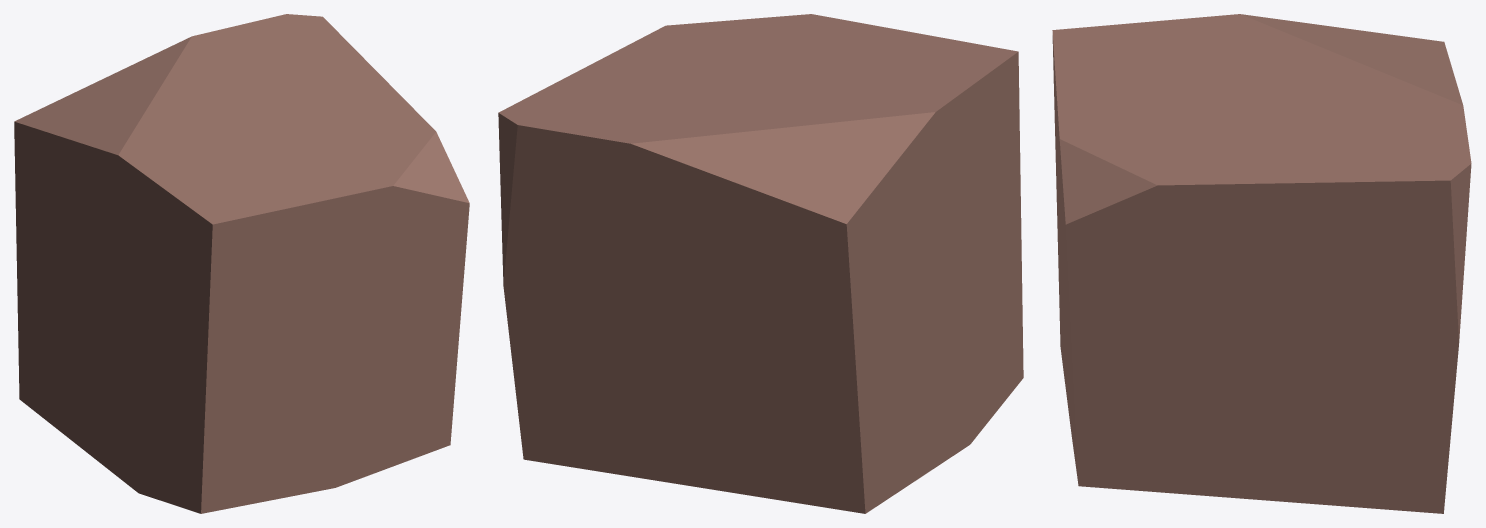
Rendered from Stone_001.FBX.
The picture shows the model from 3 angles, left to right: view 1: azimuth 30°, elevation 25°; view 2: azimuth 150°, elevation 25°; view 3: azimuth 270°, elevation 25°; orthographic projection. The views are drawn at different scales.
Parts seen in each view (by area): view 1: Stone_001; view 2: Stone_001; view 3: Stone_001.
Boxes of the visible parts, <box> form: Stone_001: <box>14,14,469,513</box>; Stone_001: <box>498,14,1023,513</box>; Stone_001: <box>1052,14,1471,513</box>.
Size of the model in its own units: 10.44 by 10.23 by 10.78.
